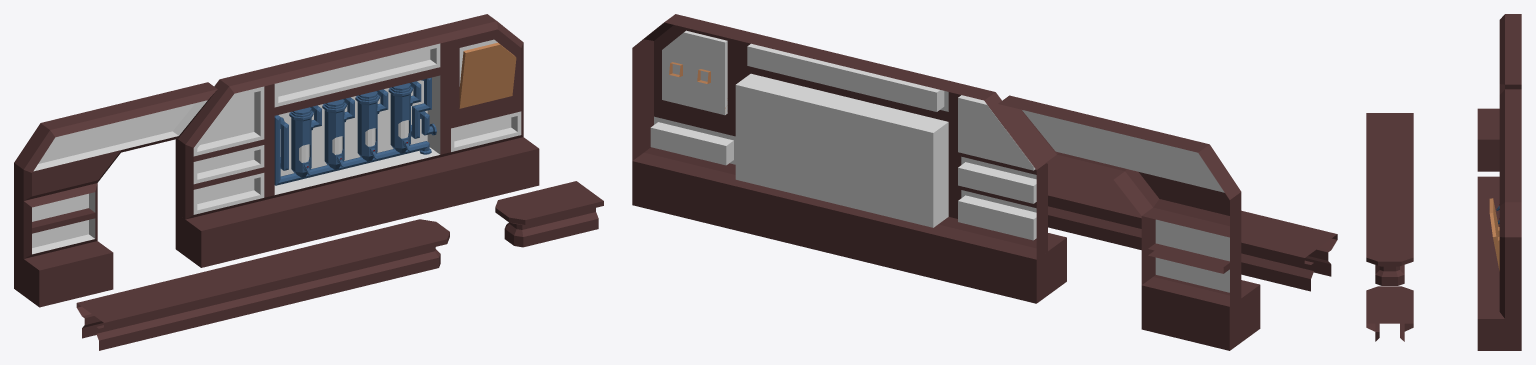
File: Bar.fbx
3 renders of one model, left to right at view 1: azimuth 30°, elevation 25°; view 2: azimuth 150°, elevation 25°; view 3: azimuth 270°, elevation 25°, orthographic. The views are drawn at different scales.
Visible parts, largest first — view 1: MainBody, KitchenBar_1, KitchenBar_4, Shelf_1, Body (×4), KitchenBar_2, KitchenBar_3, Shelf_2, Menu, polySurface38, Shelf_2_Cabinet; view 2: MainBody, KitchenBar_4, Shelf_1, KitchenBar_1, Shelf_2, KitchenBar_3, Shelf_2_Cabinet; view 3: KitchenBar_1, MainBody, KitchenBar_4, KitchenBar_2, Shelf_1, KitchenBar_3, Menu.
Part boxes in pixels (x1=…): MainBody: x1=175, y1=14, x2=523, y2=219; KitchenBar_1: x1=76, y1=219, x2=449, y2=350; KitchenBar_4: x1=175, y1=137, x2=539, y2=267; Shelf_1: x1=14, y1=82, x2=217, y2=200; Body (×4): x1=289, y1=83, x2=412, y2=177; KitchenBar_2: x1=495, y1=181, x2=603, y2=247; KitchenBar_3: x1=14, y1=241, x2=113, y2=307; Shelf_2: x1=14, y1=183, x2=97, y2=258; Menu: x1=459, y1=42, x2=516, y2=108; polySurface38: x1=286, y1=144, x2=417, y2=182; Shelf_2_Cabinet: x1=32, y1=208, x2=95, y2=233; MainBody: x1=632, y1=14, x2=1047, y2=259; KitchenBar_4: x1=632, y1=152, x2=1066, y2=303; Shelf_1: x1=998, y1=95, x2=1241, y2=236; KitchenBar_1: x1=1048, y1=164, x2=1337, y2=291; Shelf_2: x1=1141, y1=208, x2=1241, y2=306; KitchenBar_3: x1=1141, y1=280, x2=1260, y2=350; Shelf_2_Cabinet: x1=1148, y1=243, x2=1229, y2=273; KitchenBar_1: x1=1366, y1=113, x2=1413, y2=285; MainBody: x1=1499, y1=89, x2=1521, y2=318; KitchenBar_4: x1=1477, y1=176, x2=1521, y2=350; KitchenBar_2: x1=1366, y1=286, x2=1413, y2=341; Shelf_1: x1=1499, y1=14, x2=1521, y2=94; KitchenBar_3: x1=1477, y1=108, x2=1499, y2=171; Menu: x1=1489, y1=198, x2=1499, y2=270.
Bounding box in the file's own units: 283 × 86.33 × 88.46.
